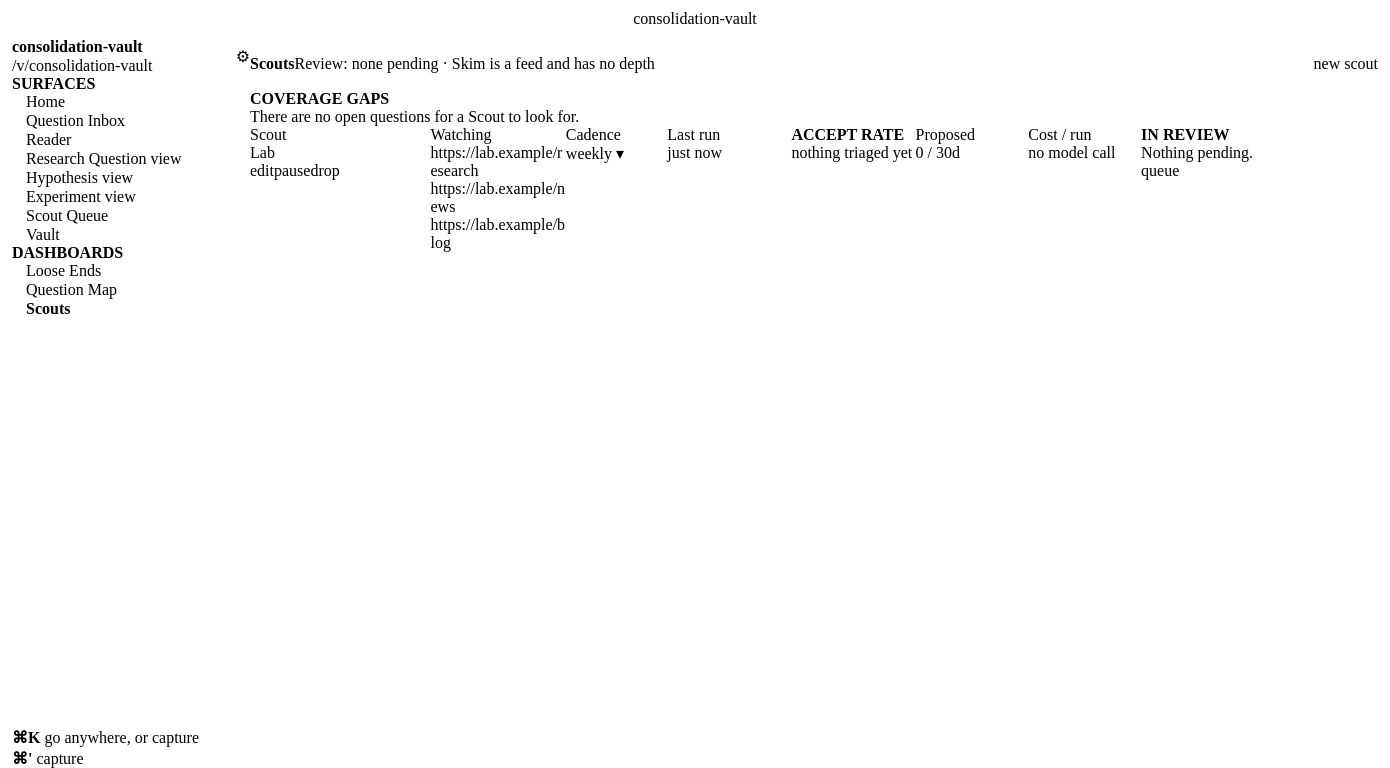
Scenario: the opened row of a Scout of several pages › lists nothing while nothing is triaged, which every page would only repeat
What coordinates should you click on to do the following:
click the button with aria-label "Lab: accept rate"
I would click on:
 (852, 153)
Its box is [791,144,912,162].
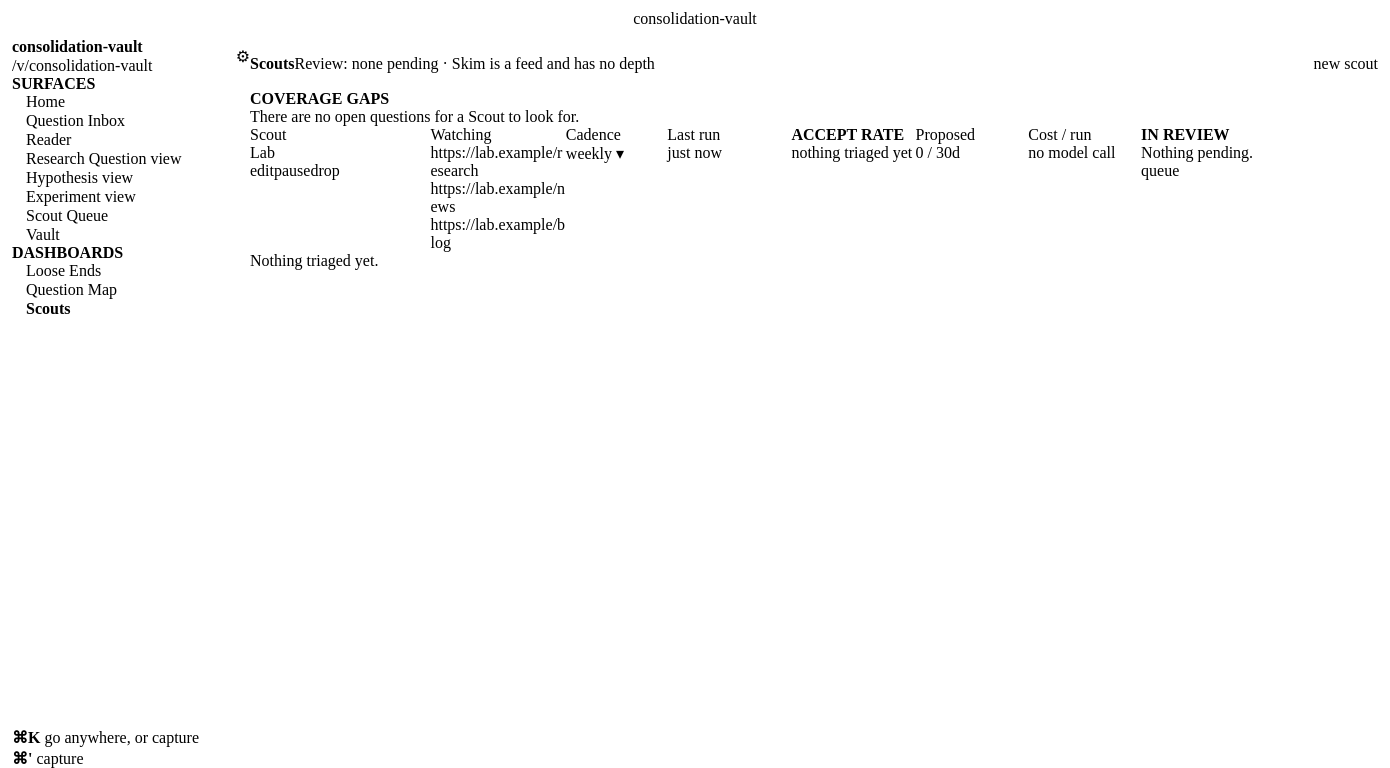
Result: the text "Nothing triaged yet." is shown at [250,252,378,269]
